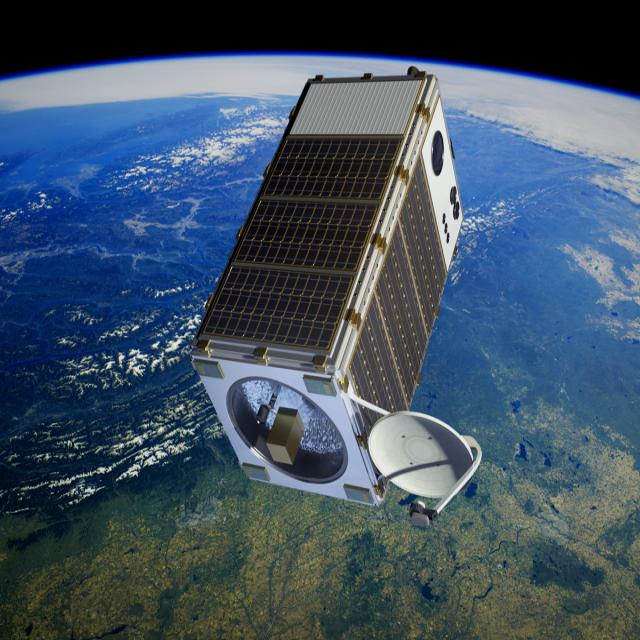medium_debris: (188, 45, 497, 564)
